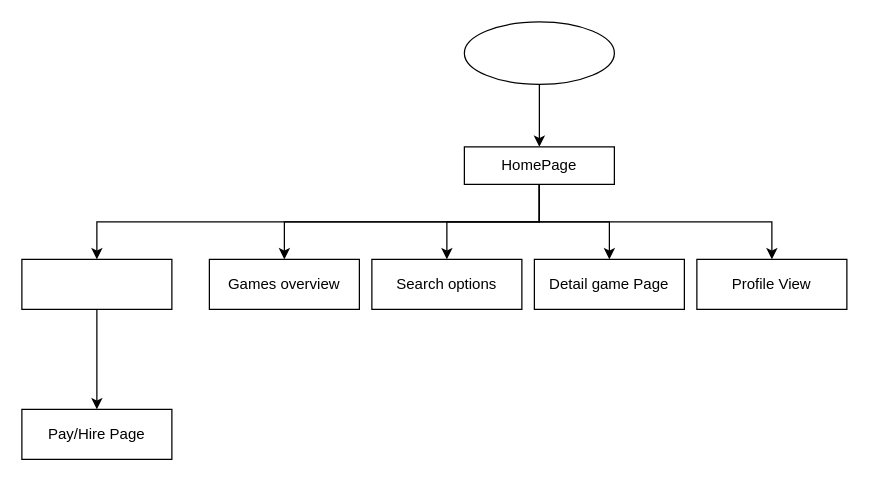
This 869x481 diagram has some shape labels left out. Each missing label, with the centre of its shape:
"Login Page" goes at (538,52).
"Shopping Cart" goes at (96,283).
